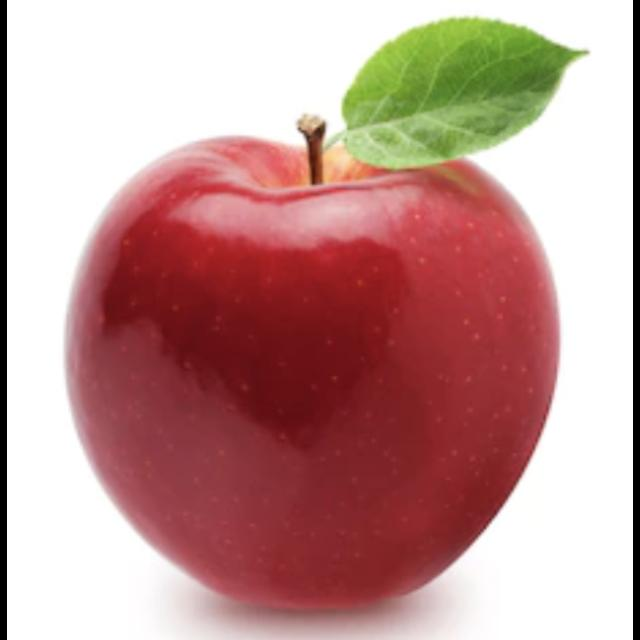Apel Segar: (51, 118, 573, 628)
